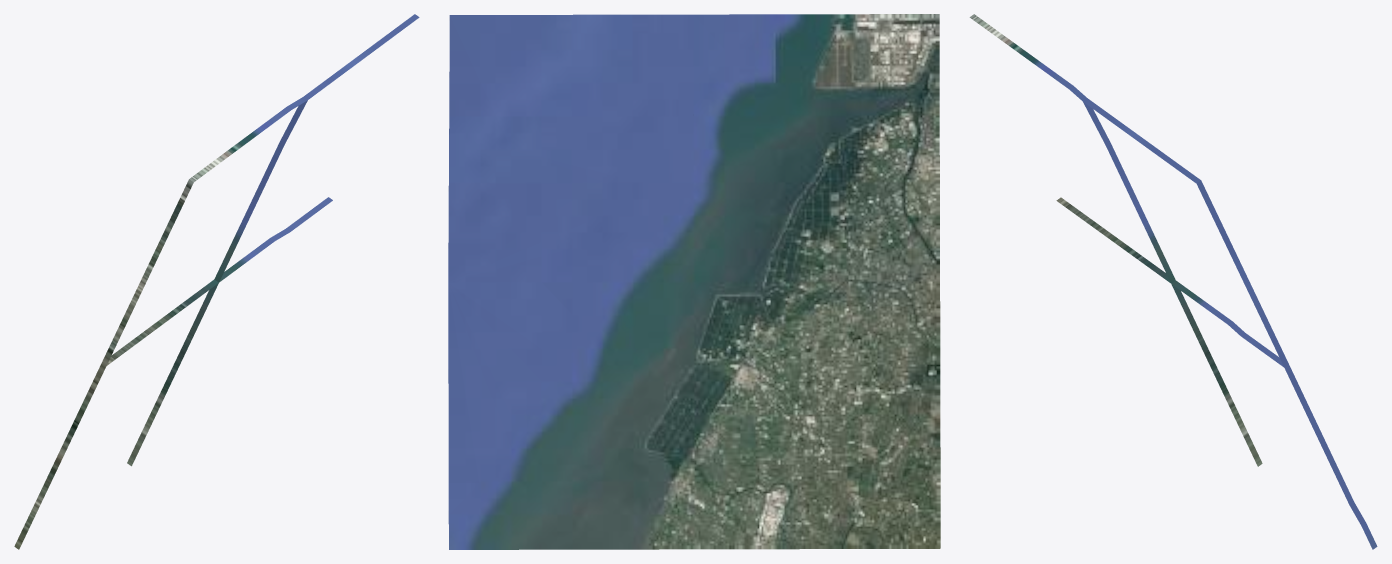
3 views of the same model, side by side, from view 1: azimuth 30°, elevation 25°; view 2: azimuth 150°, elevation 25°; view 3: azimuth 270°, elevation 25° (orthographic). The views are drawn at different scales.
Bounding box in the file's own units: 19663 × 18005 × 16169.
Materials: 1 (1 with a texture image).
